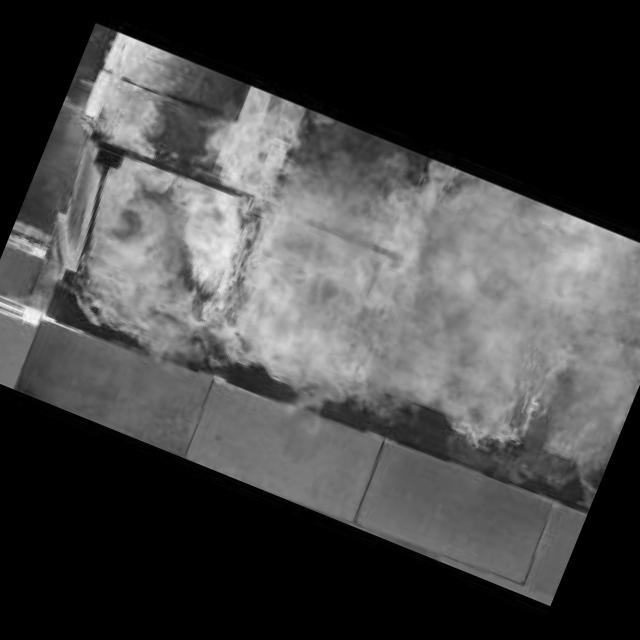fire: (26, 42, 640, 537)
